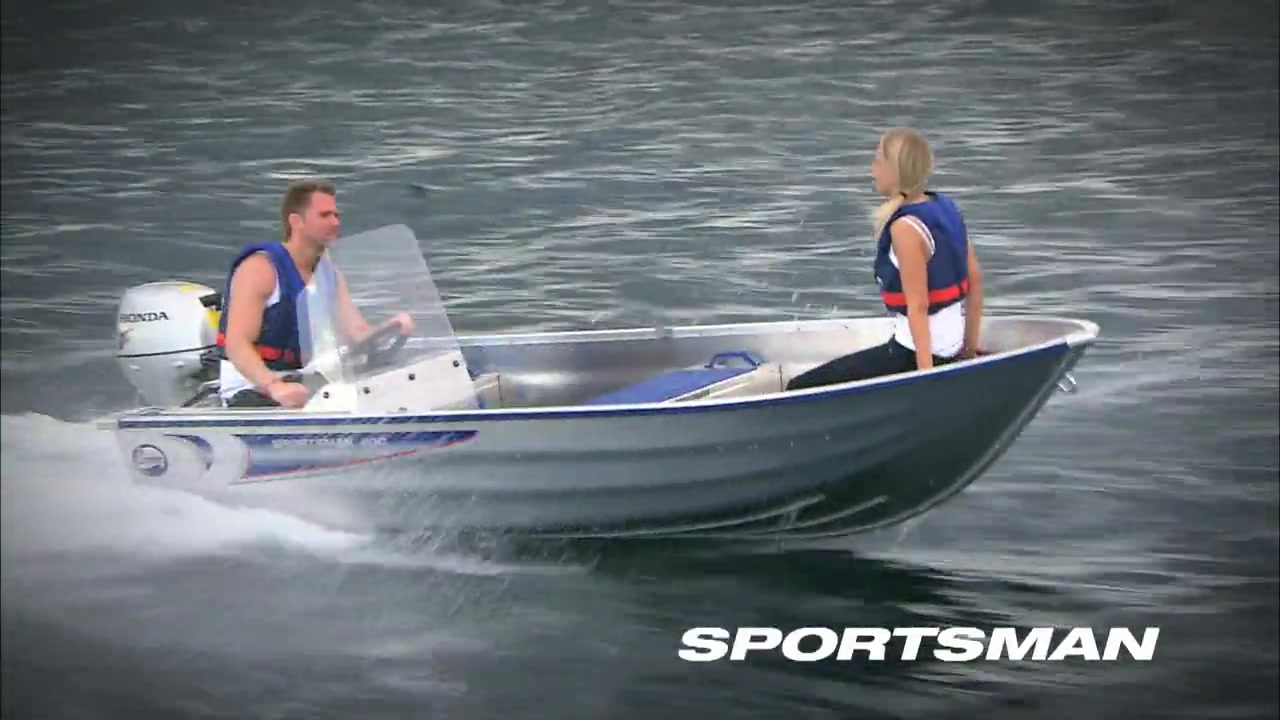boat: (88, 225, 1104, 560)
